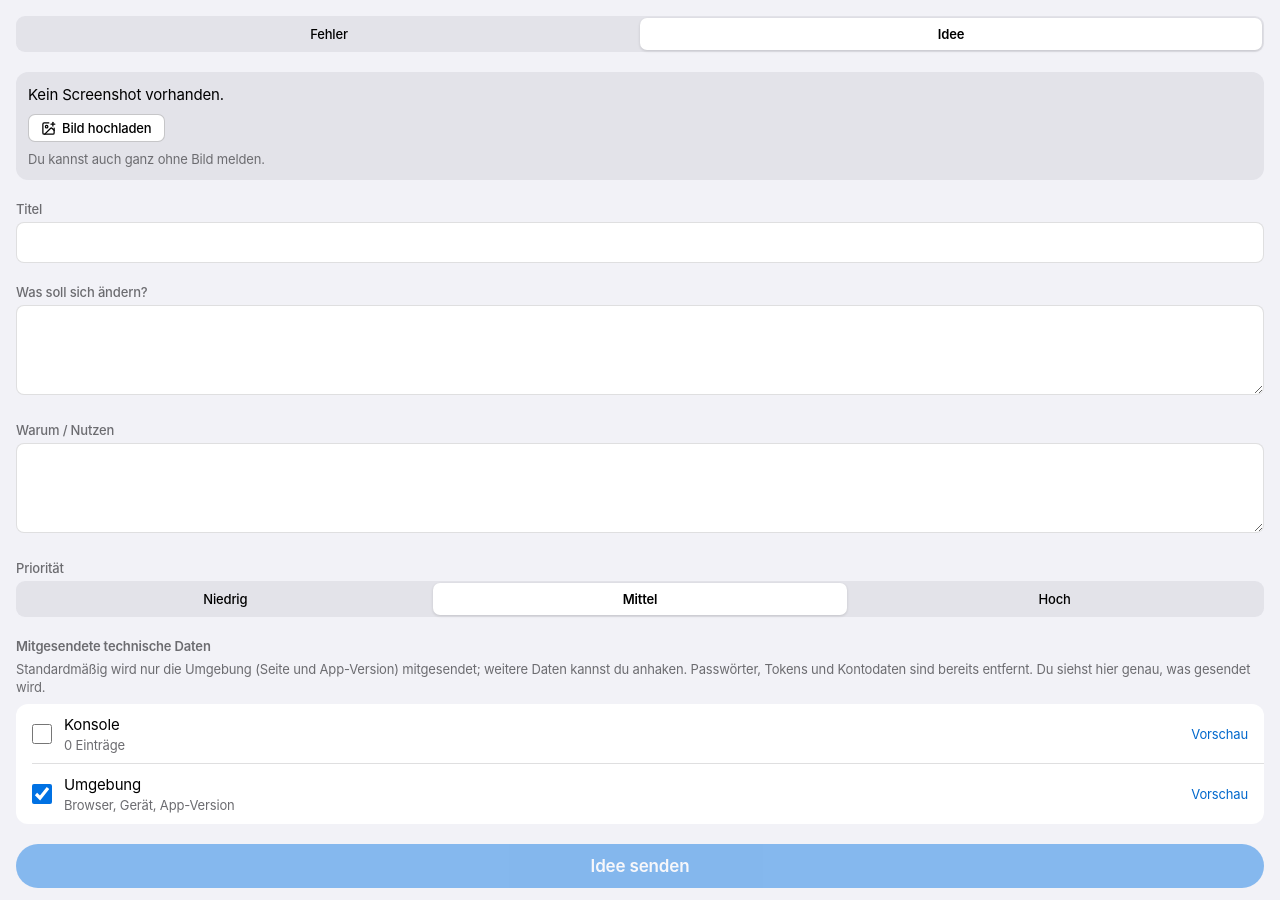
FehlerberichtDialog Art-Umschalter › wählt bei Ideen nur die Umgebung vor und sendet art=idee
The image size is (1280, 900).
Check: the checkbox labelled "Umgebung Browser, Gerät, App-Version" is checked, box 32,784 -> 52,804
Check: the checkbox labelled "Konsole 0 Einträge" is not checked, box 32,724 -> 52,744
Type "Neu" into the field labelled "Titel" at [640, 243], box 16,222 -> 1264,263
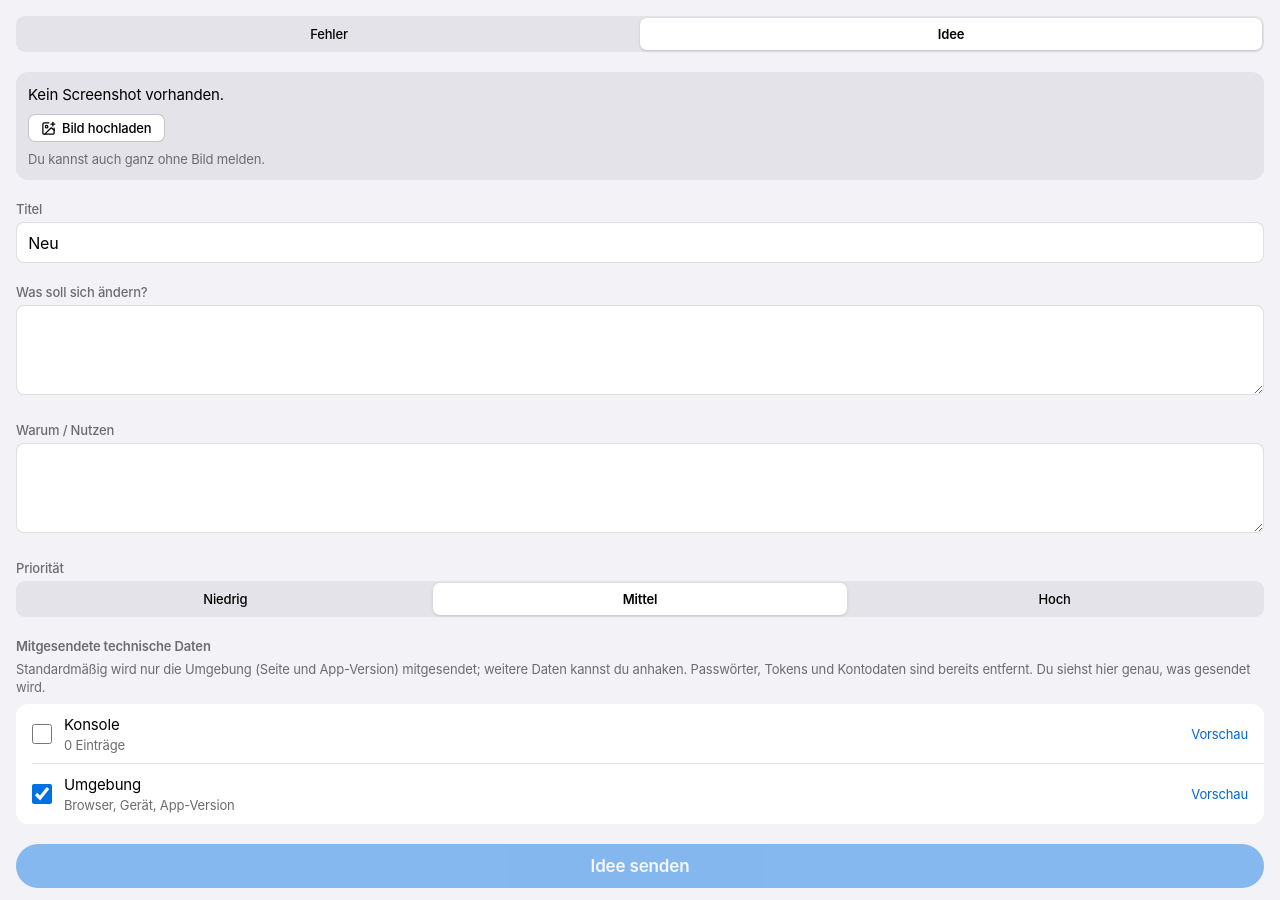
Type "Mehr" into the text box labelled "Was soll sich ändern?" at [640, 350], box 16,305 -> 1264,395
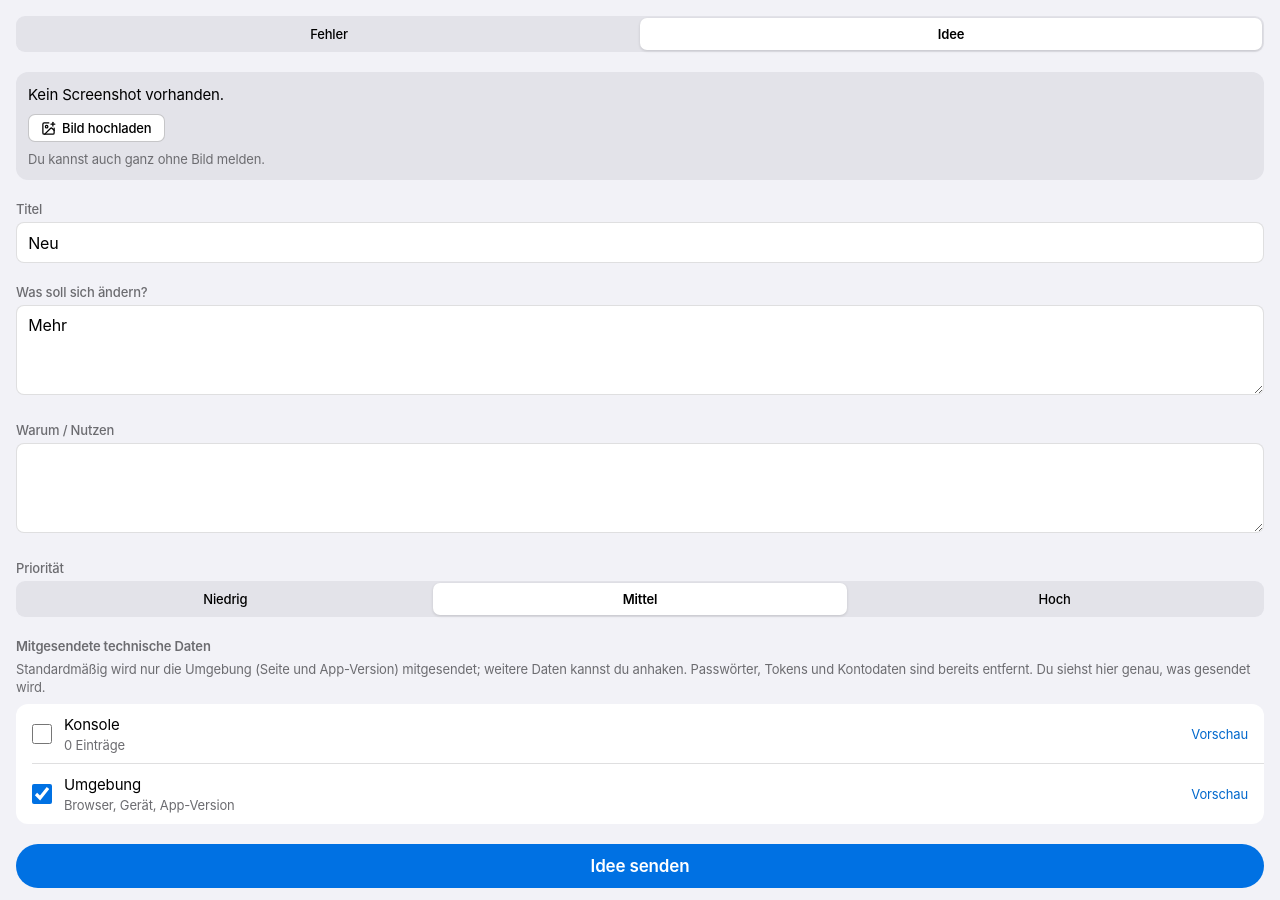
Click the button "Idee senden" at [640, 866], box 16,844 -> 1264,888
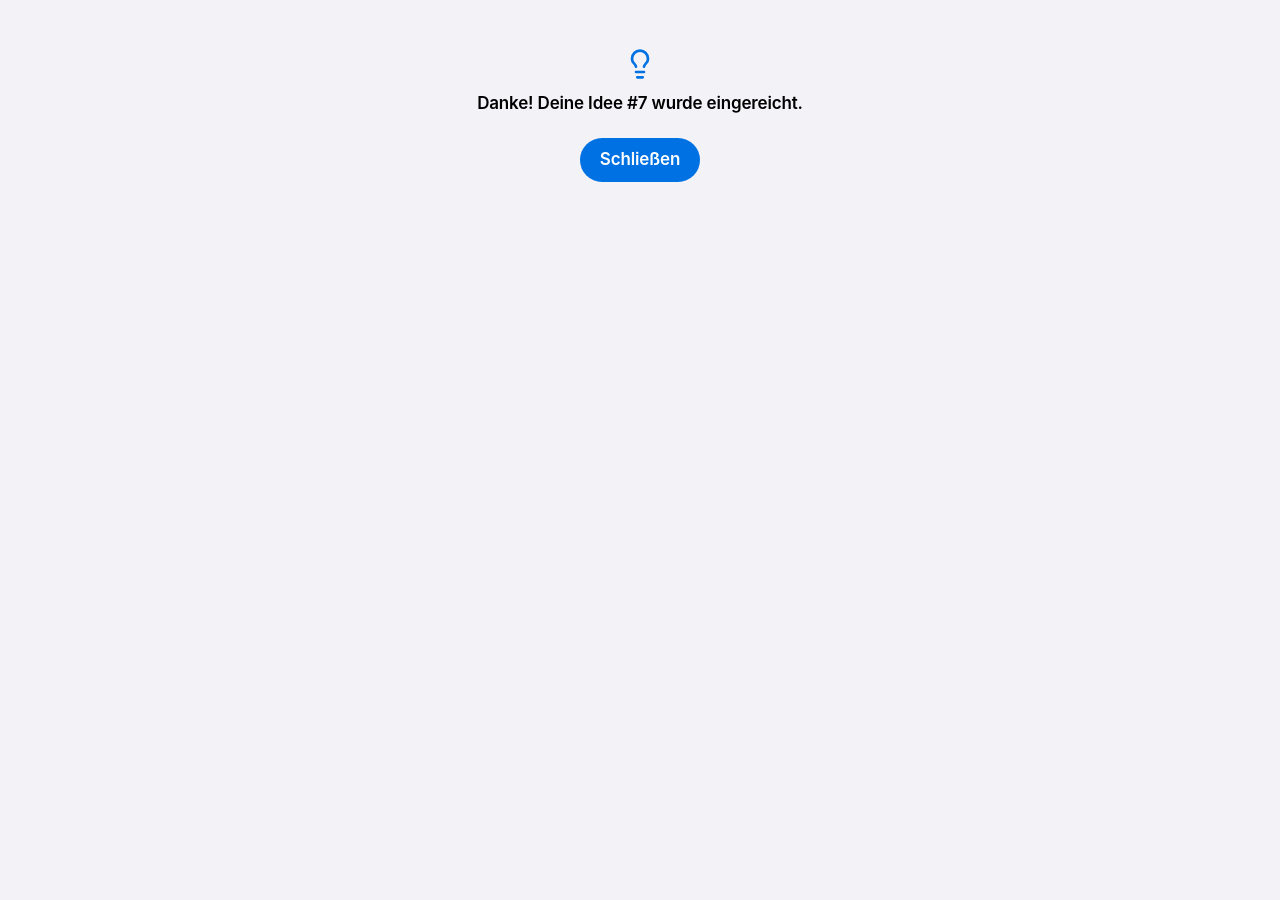
Check: the text "Danke! Deine Idee #7 wurde eingereicht." is shown, box 477,93 -> 803,113
